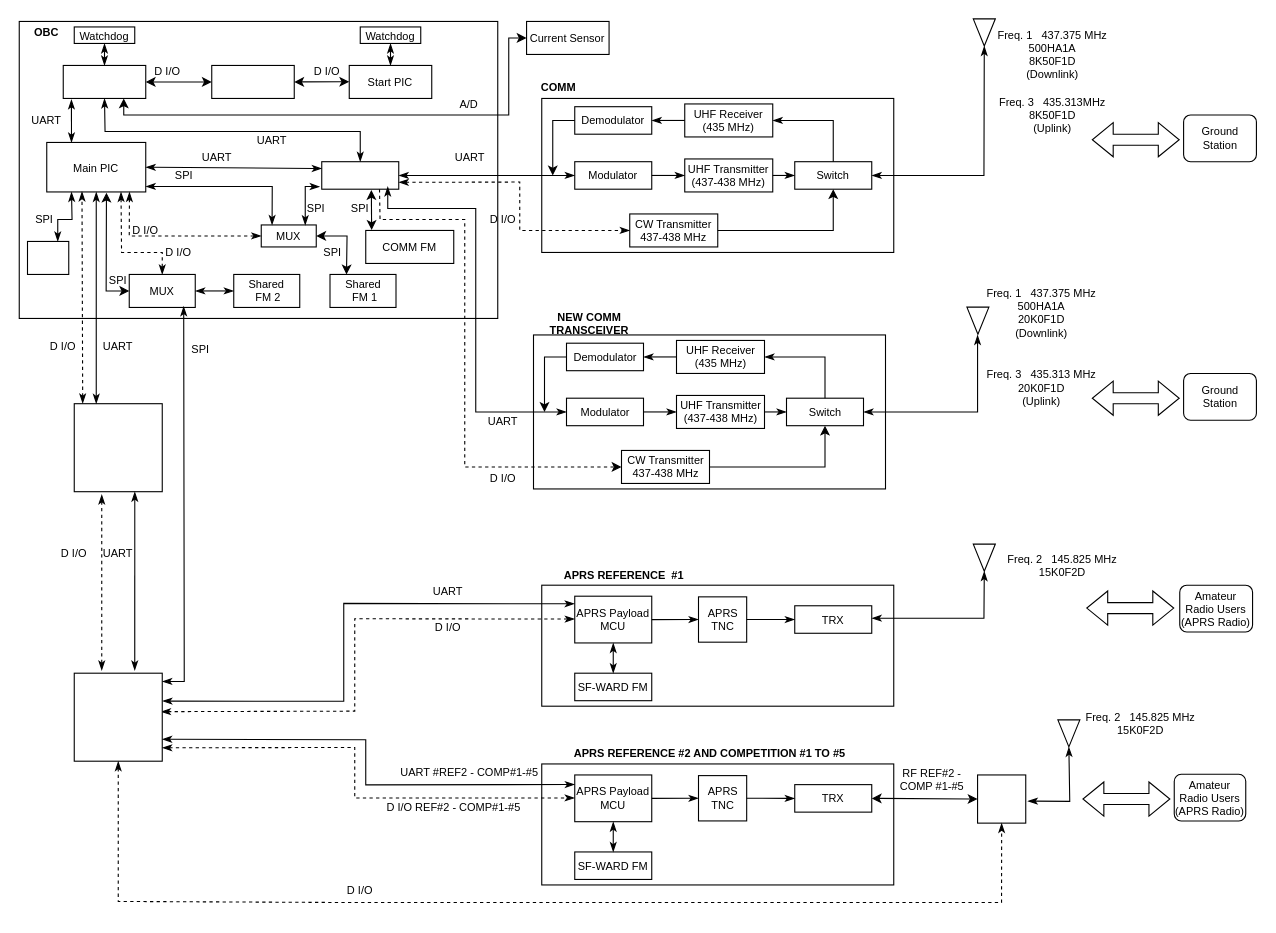
The diagram is 1276 pixels wide and 933 high, and some of its shapes have lost their labels. Each missing label, with the box of its shape:
COMM PIC: (321, 161, 399, 189)
CPLD (Complex Programmable Logic Device): (73, 672, 162, 761)
FM Main: (26, 240, 69, 274)
MISSION BOSS: (73, 403, 162, 492)
Power Switch: (211, 64, 294, 98)
Reset PIC: (62, 64, 146, 98)
RF SWITCH: (976, 774, 1026, 823)
